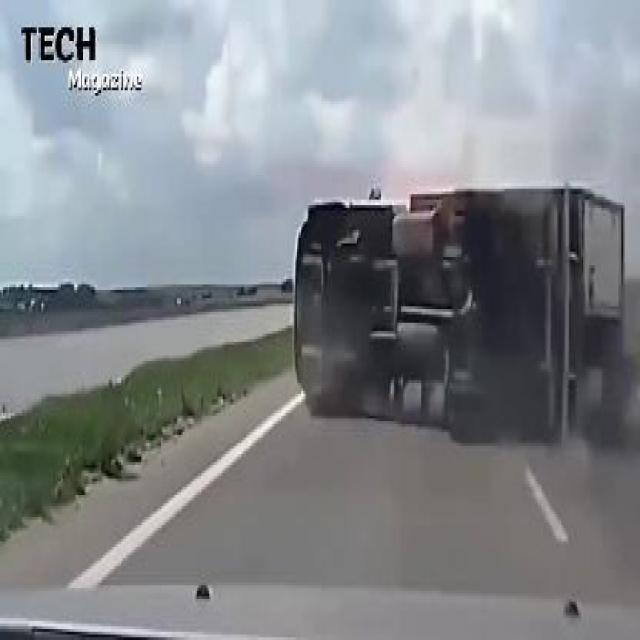accident: (288, 189, 623, 443)
